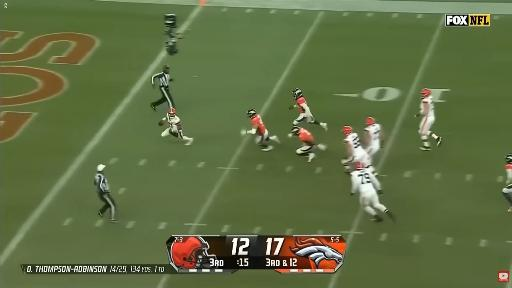Helmet: (247, 109, 257, 118), (342, 126, 352, 135), (293, 88, 302, 98), (291, 126, 300, 135), (366, 117, 375, 125), (168, 108, 175, 118), (422, 89, 430, 97), (355, 162, 363, 169), (506, 154, 511, 163)
Jersey: (351, 169, 381, 193), (344, 133, 365, 155), (365, 124, 380, 147), (420, 96, 434, 117), (163, 115, 181, 131), (251, 115, 265, 135), (299, 128, 314, 145), (296, 97, 308, 113), (505, 164, 511, 183)
Player: (351, 162, 394, 221), (241, 109, 279, 151), (289, 88, 327, 130), (415, 89, 441, 150), (342, 126, 375, 174), (291, 126, 326, 162), (159, 108, 193, 145), (365, 117, 384, 161), (503, 154, 511, 212)
